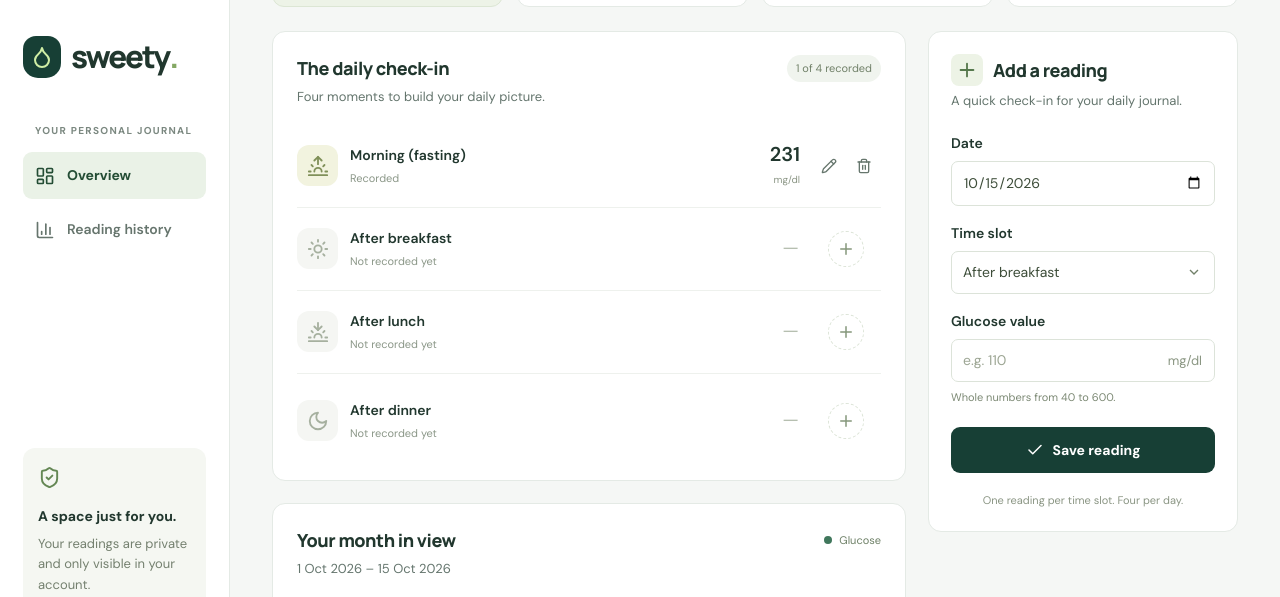
it: rejected save retains user input and creates no success notice
(page scrolled)
Expected: the button named "Edit Morning (fasting) on 15 Oct 2026" is shown, [812,148,846,182]
Step 1. Type "145" into the field labelled "Glucose value" → (1083, 360), box [951,338,1215,382]
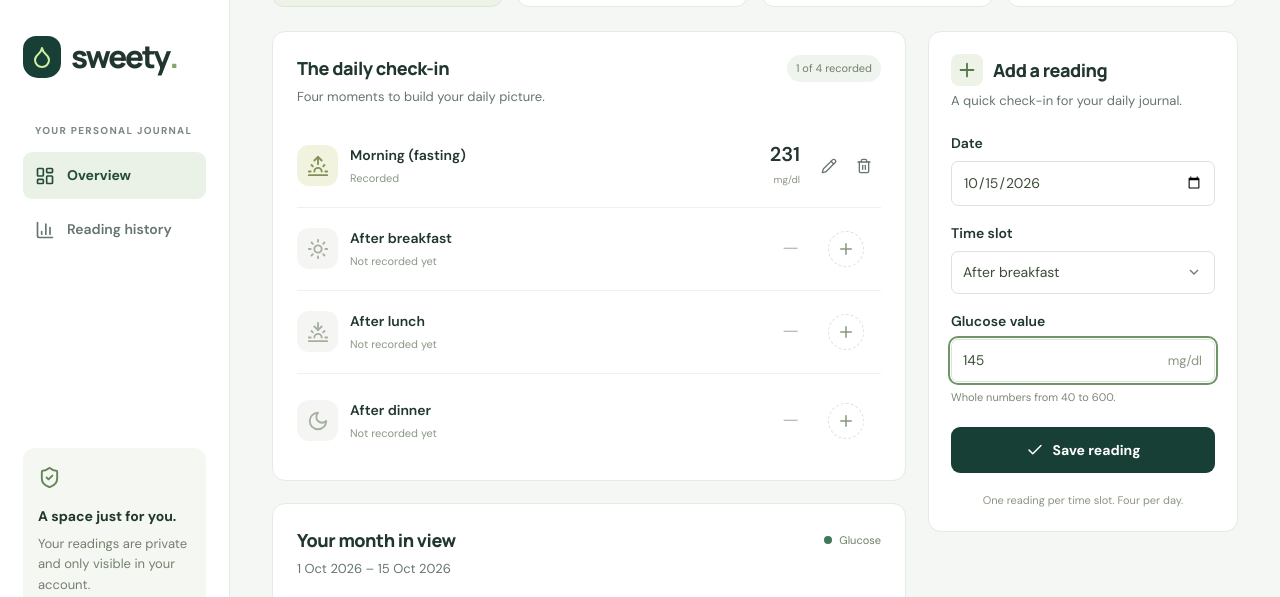
Step 2. Click the button "Save reading" → (1083, 450), box [951,427,1215,473]
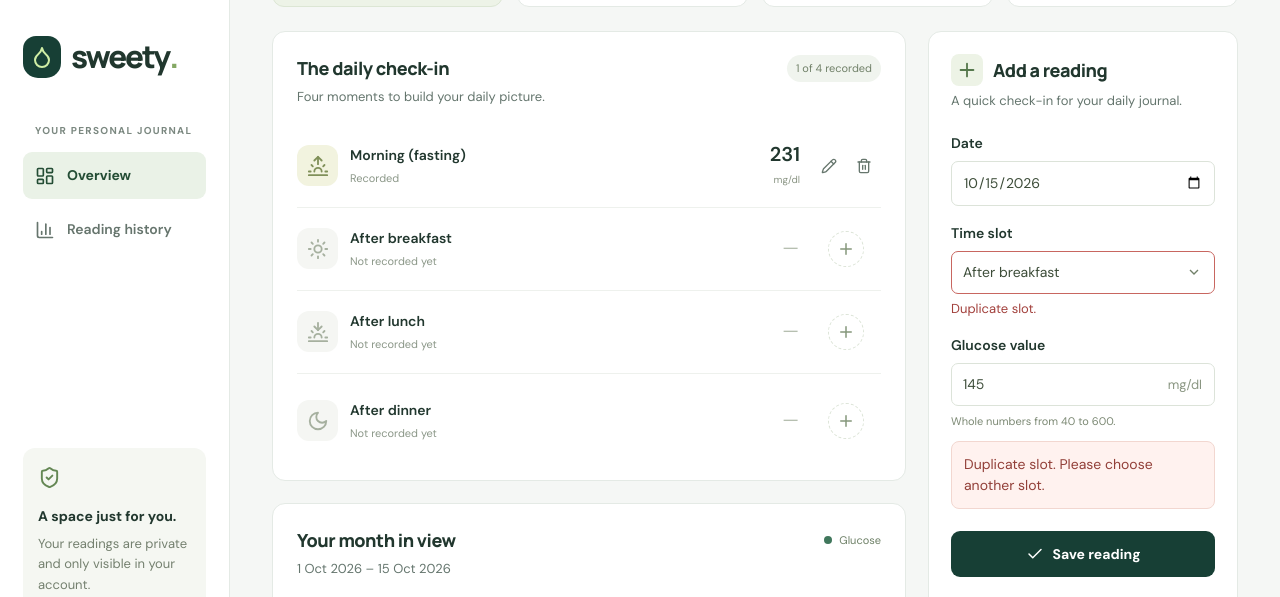
Result: the text "Duplicate slot. Please choose another slot." is shown at [951,441,1215,509]
